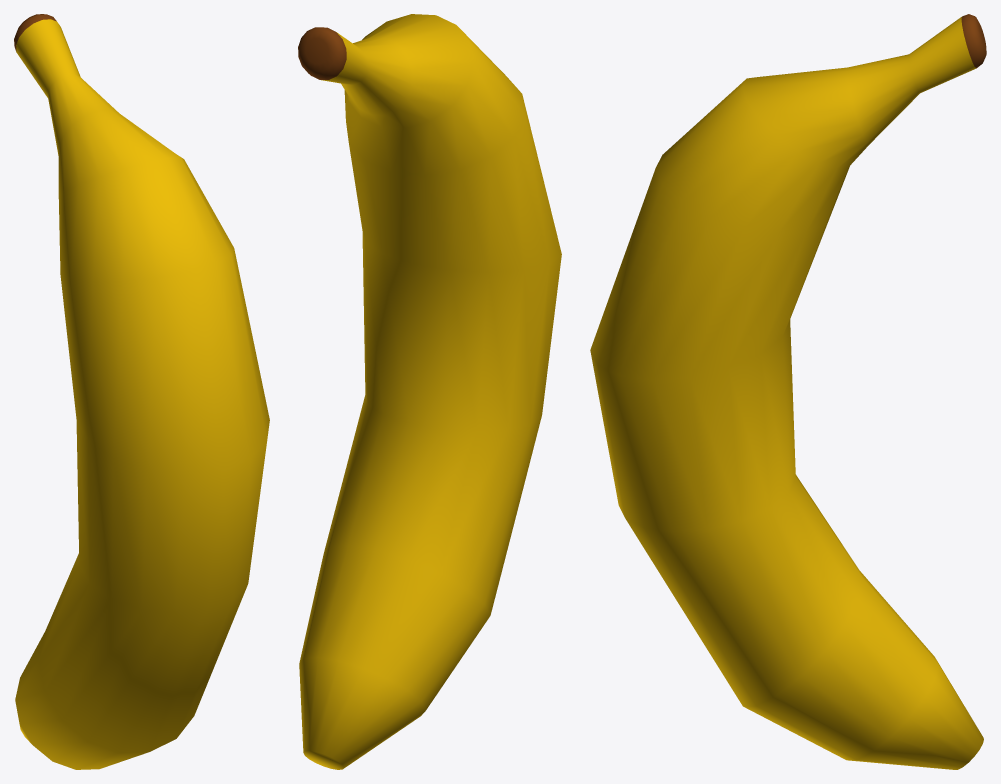
File: BananaClosed.fbx
3 views of the same model, side by side, from view 1: azimuth 30°, elevation 25°; view 2: azimuth 150°, elevation 25°; view 3: azimuth 270°, elevation 25° (orthographic). The views are drawn at different scales.
Parts seen in each view (by area): view 1: Cylinder.001; view 2: Cylinder.001; view 3: Cylinder.001.
Boxes of the visible parts, <box> form: Cylinder.001: <box>14,14,269,769</box>; Cylinder.001: <box>298,14,561,769</box>; Cylinder.001: <box>590,14,986,769</box>.
Size of the model in its own units: 98.7 by 403 by 193.
